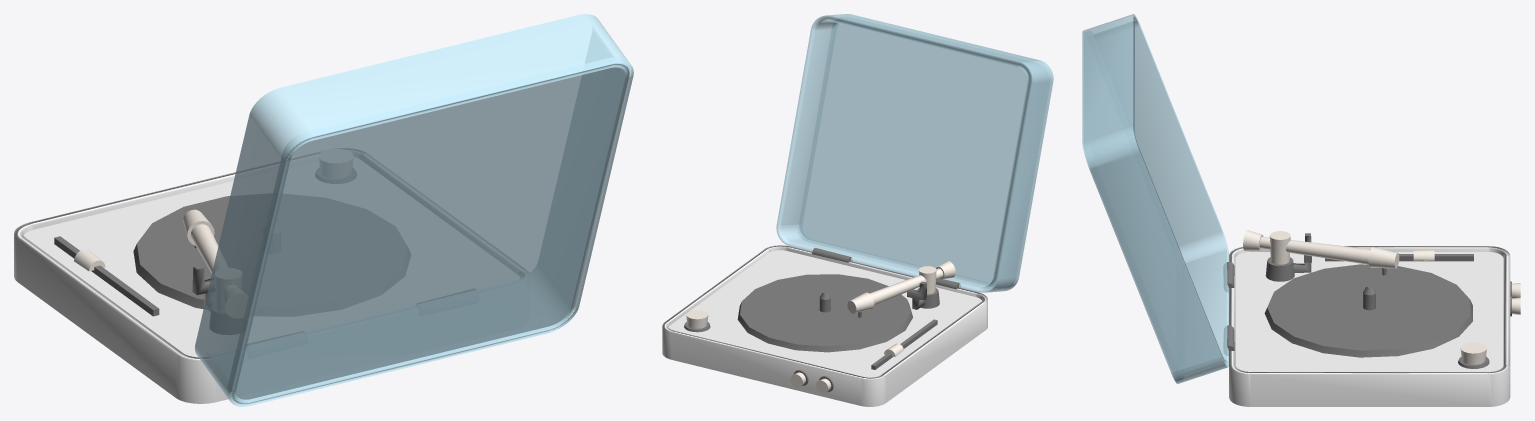
The model's file is Turntables.glb.
The picture shows the model from 3 angles, left to right: view 1: azimuth 30°, elevation 25°; view 2: azimuth 150°, elevation 25°; view 3: azimuth 270°, elevation 25°; orthographic projection. The views are drawn at different scales.
Parts seen in each view (by area): view 1: Base (×2), Lid, Turntable, Frame, ToneArm (×2), Slider, Button, Round, Counterweight; view 2: Base (×2), Lid, Frame, Turntable, ToneArm (×2), Slider, Button; view 3: Lid, Base (×2), Turntable, Frame, ToneArm (×3), Round, Button, Slider.
Part boxes in pixels (x1,y1,x2,y2): Base (×2): (23,58,629,402); Lid: (195,14,633,406); Turntable: (133,194,410,316); Frame: (14,148,528,403); ToneArm (×2): (190,224,242,334); Slider: (54,236,159,316); Button: (319,149,352,177); Round: (215,268,241,311); Counterweight: (224,288,247,317); Base (×2): (668,17,1050,377); Lid: (776,14,1053,292); Frame: (662,245,987,406); Turntable: (737,274,912,352); ToneArm (×2): (847,268,943,313); Slider: (871,319,937,369); Button: (686,310,708,328); Lid: (1082,14,1228,383); Base (×2): (1084,31,1503,380); Turntable: (1264,264,1472,357); Frame: (1229,246,1510,406); ToneArm (×3): (1259,236,1399,281); Round: (1269,231,1290,264); Button: (1460,342,1486,364); Slider: (1325,254,1473,261).
Size of the model in its own units: 0.46 by 0.4531 by 0.6625.
